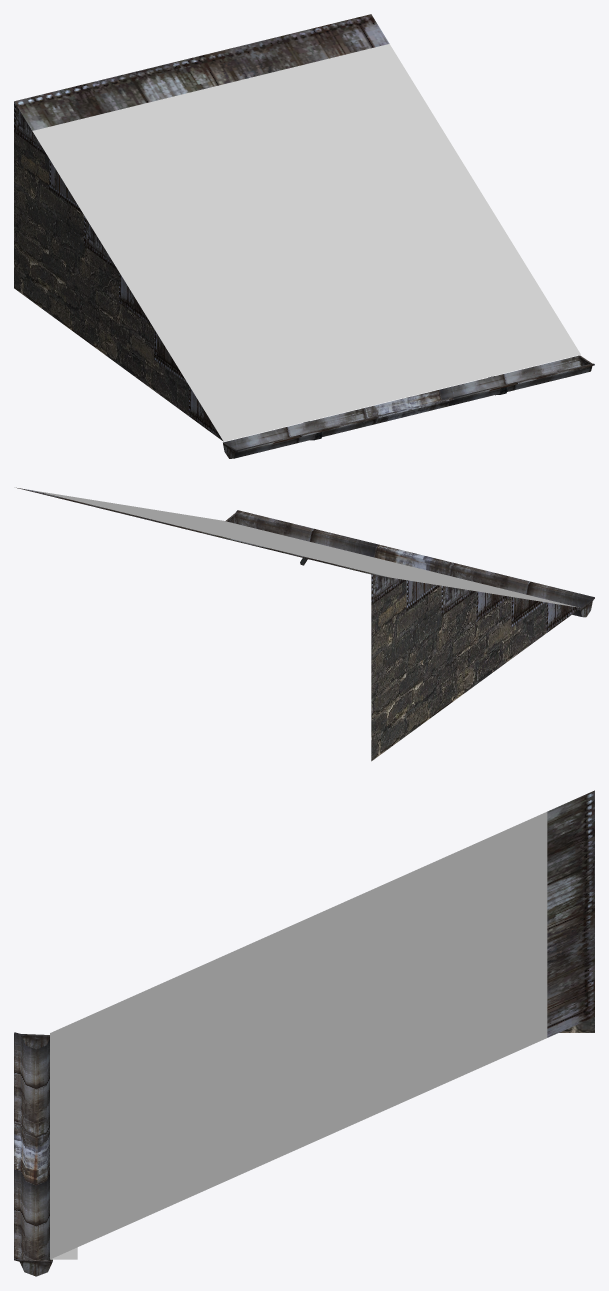
Rendered from factory_roof_01_left.DAE.
The picture shows the model from 3 angles, top to bottom: view 1: azimuth 30°, elevation 25°; view 2: azimuth 150°, elevation 25°; view 3: azimuth 270°, elevation 25°; orthographic projection. The views are drawn at different scales.
Parts seen in each view (by area): view 1: Box053, Box054, Box052, Object040, Object042; view 2: Box054, Box053, Object040, Object042, Box052; view 3: Box053, Box052, Object040.
Boxes of the visible parts, x1,y1,x2,y2 form: Box053: (32, 44, 580, 441); Box054: (14, 132, 188, 415); Box052: (14, 14, 389, 130); Object040: (223, 355, 594, 458); Object042: (14, 102, 223, 441); Box054: (371, 580, 546, 761); Box053: (34, 490, 578, 607); Object040: (225, 510, 594, 617); Object042: (371, 574, 580, 632); Box052: (16, 487, 387, 577); Box053: (50, 812, 547, 1259); Box052: (547, 790, 594, 1037); Object040: (14, 1032, 52, 1276).
Size of the model in its own units: 4 by 2.17 by 4.34.
